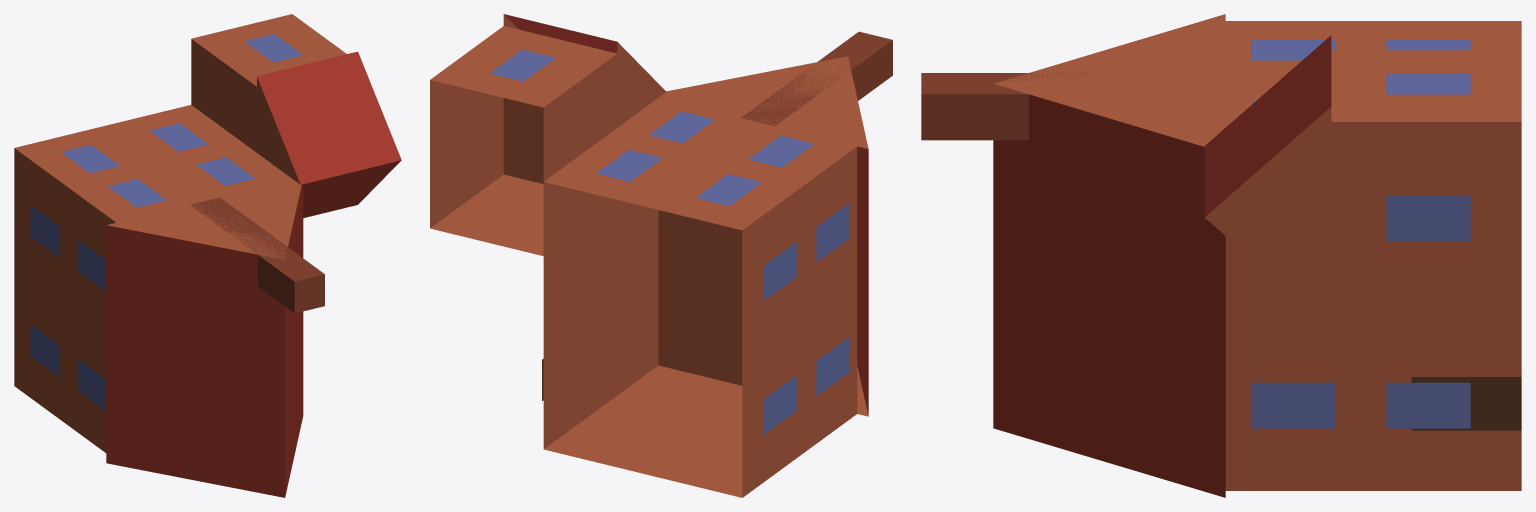
The model's file is construction_2.glb.
3 renders of one model, left to right at view 1: azimuth 30°, elevation 25°; view 2: azimuth 150°, elevation 25°; view 3: azimuth 270°, elevation 25°, orthographic. The views are drawn at different scales.
Visible parts, largest first — view 1: c2; view 2: c2; view 3: c2.
Part boxes in pixels (<box>): c2: <box>14,14,401,497</box>; c2: <box>430,14,892,497</box>; c2: <box>921,14,1521,497</box>.
Bounding box in the file's own units: 11.46 × 11.96 × 14.2.
